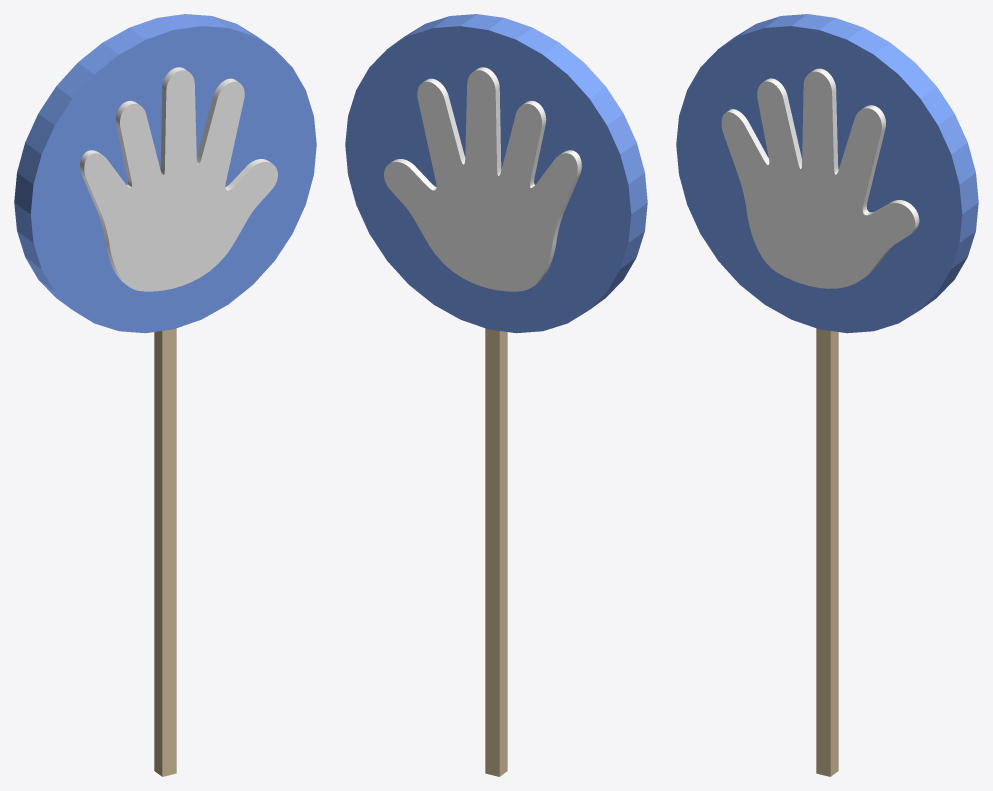
The model's file is paper.fbx.
The picture shows the model from 3 angles, left to right: view 1: azimuth 30°, elevation 25°; view 2: azimuth 150°, elevation 25°; view 3: azimuth 330°, elevation 25°; orthographic projection.
Visible parts, largest first — view 1: 円柱, path149, 立方体; view 2: 円柱, path149, 立方体; view 3: 円柱, path149, 立方体.
Part boxes in pixels (<box>): 円柱: <box>14,14,316,333</box>; path149: <box>80,67,277,291</box>; 立方体: <box>154,328,176,776</box>; 円柱: <box>345,14,647,333</box>; path149: <box>384,67,581,291</box>; 立方体: <box>485,328,507,776</box>; 円柱: <box>676,14,978,333</box>; path149: <box>721,68,919,288</box>; 立方体: <box>816,328,838,776</box>.
Size of the model in its own units: 20 by 50 by 3.
